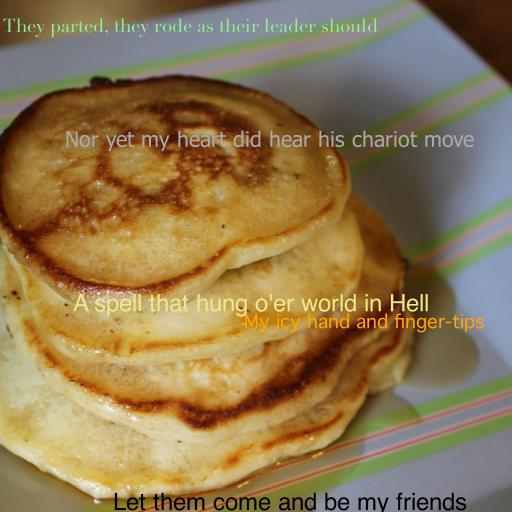Didot: (2, 18, 378, 38)
Geneva: (243, 313, 485, 333)
Helvetica: (113, 492, 467, 512)
SignPainter: (73, 294, 429, 317)
Tahoma: (64, 130, 474, 152)
